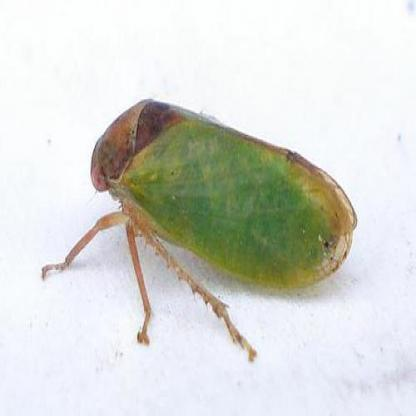green-leafhopper: (80, 96, 358, 310)
